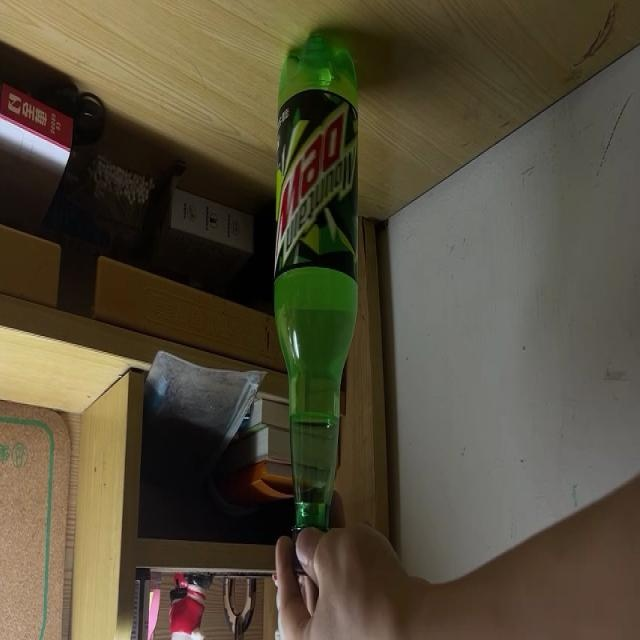Mountain-Dew: (272, 32, 357, 574)
